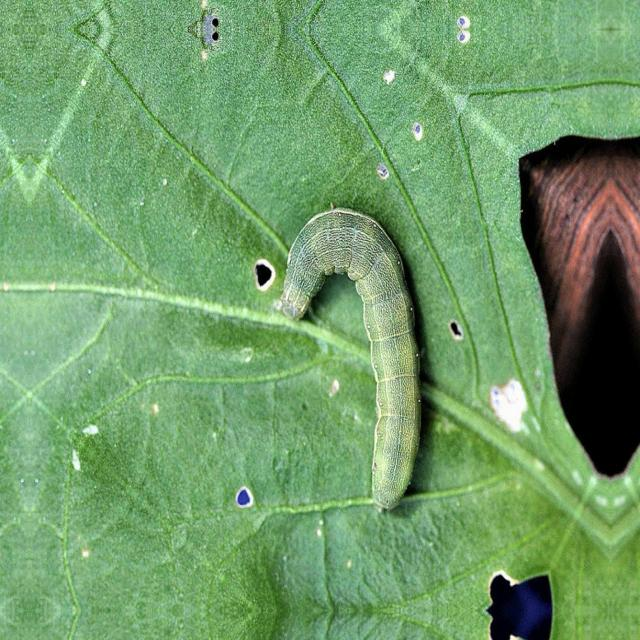Armyworm: (254, 168, 448, 524)
Armyworm_damage: (459, 536, 577, 640), (240, 238, 280, 301), (230, 464, 259, 527)
